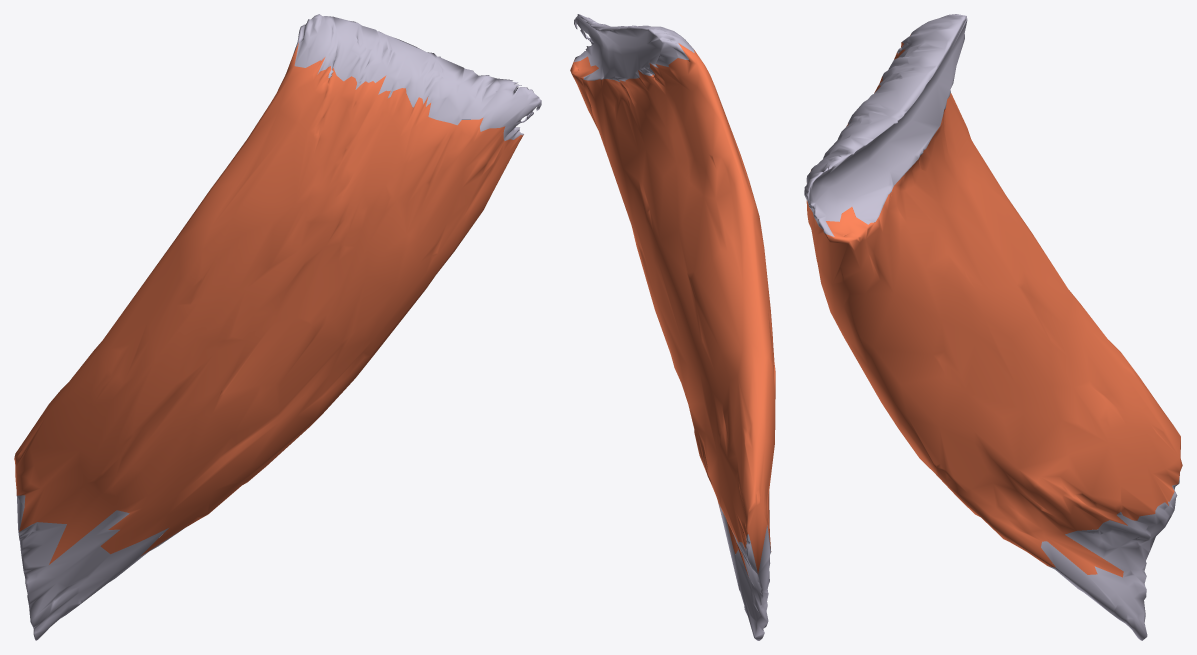
File: Pectineus_muscle.r_Generated_Mesh_From_X3D.302.glb
The picture shows the model from 3 angles, left to right: view 1: azimuth 30°, elevation 25°; view 2: azimuth 150°, elevation 25°; view 3: azimuth 270°, elevation 25°; orthographic projection. The views are drawn at different scales.
Visible parts, largest first — view 1: Pectineus_muscle.r_Generated_Mesh_From_X3D.302; view 2: Pectineus_muscle.r_Generated_Mesh_From_X3D.302; view 3: Pectineus_muscle.r_Generated_Mesh_From_X3D.302.
Boxes of the visible parts, x1,y1,x2,y2 form: Pectineus_muscle.r_Generated_Mesh_From_X3D.302: (14,14,541,640); Pectineus_muscle.r_Generated_Mesh_From_X3D.302: (570,14,775,640); Pectineus_muscle.r_Generated_Mesh_From_X3D.302: (804,14,1182,640).
Bounding box in the file's own units: 0.0828 × 0.1314 × 0.0607.
